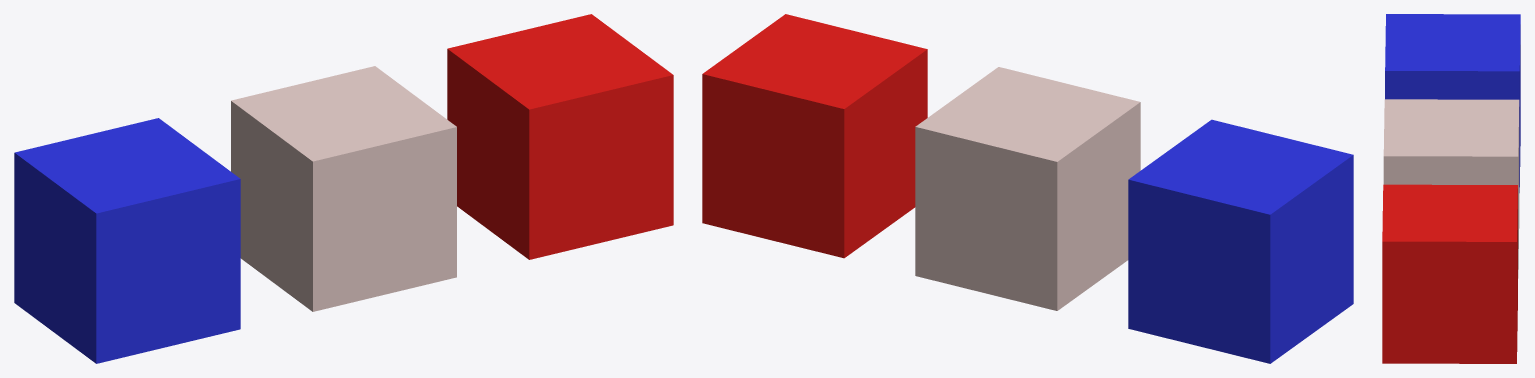
Rendered from blocks.gltf.
3 renders of one model, left to right at view 1: azimuth 30°, elevation 25°; view 2: azimuth 150°, elevation 25°; view 3: azimuth 270°, elevation 25°, orthographic. The views are drawn at different scales.
Parts seen in each view (by area): view 1: Cube.001, Cube.002, Cube; view 2: Cube.001, Cube, Cube.002; view 3: Cube.002, Cube, Cube.001.
Boxes of the visible parts, bbox=[...] form: Cube.001: bbox=[14, 118, 240, 363]; Cube.002: bbox=[447, 14, 673, 259]; Cube: bbox=[231, 66, 456, 311]; Cube.001: bbox=[1128, 119, 1353, 363]; Cube: bbox=[915, 67, 1140, 310]; Cube.002: bbox=[702, 14, 927, 258]; Cube.002: bbox=[1382, 184, 1517, 363]; Cube: bbox=[1383, 99, 1519, 278]; Cube.001: bbox=[1385, 14, 1520, 192].
Size of the model in its own units: 8.01 by 2 by 2.05.
